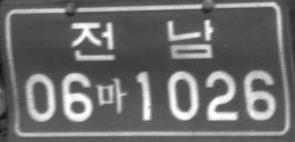0: (166, 70, 200, 121), (24, 73, 56, 122)
1: (129, 70, 160, 120)
2: (205, 70, 239, 120)
6: (243, 70, 277, 120), (60, 71, 93, 122)
마: (96, 77, 127, 113)
전남_D: (70, 18, 214, 60)
